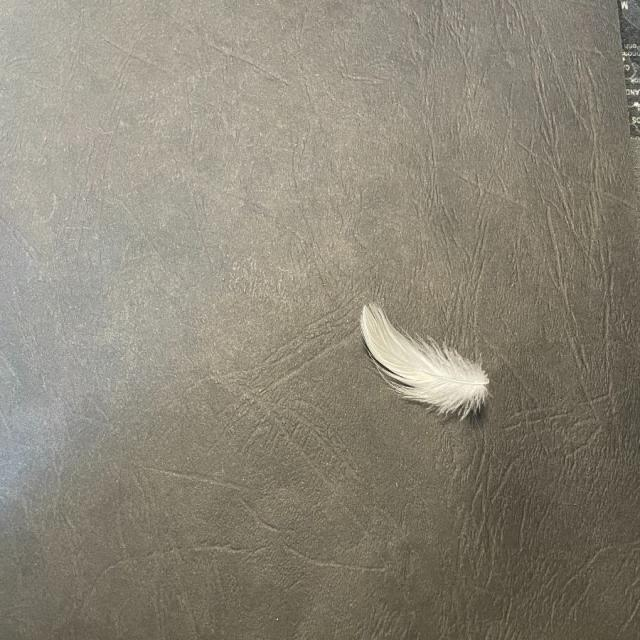feather: (360, 300, 490, 419)
